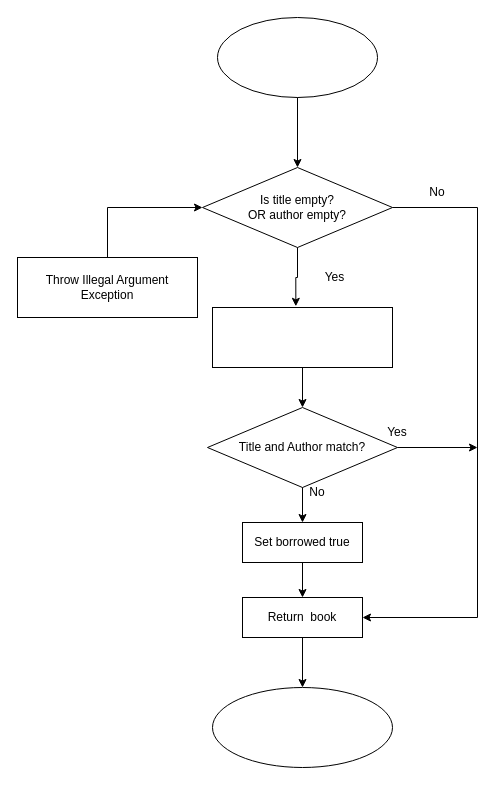
Image size: 503x785. Some labels were removed from this diagram. Each missing label, with the centre of its shape:
End: the point at 302,727
For each book in books: the point at 302,337
Start: the point at 297,57
